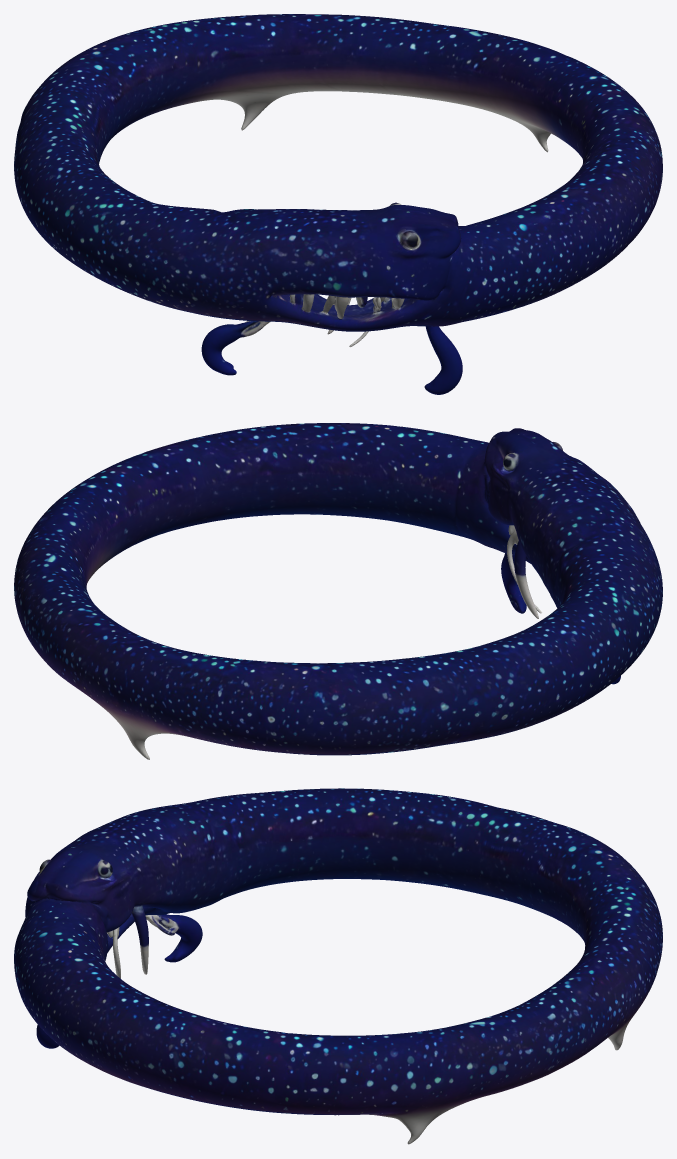
Rendered from hag_b.glb.
The picture shows the model from 3 angles, top to bottom: view 1: azimuth 30°, elevation 25°; view 2: azimuth 150°, elevation 25°; view 3: azimuth 270°, elevation 25°; orthographic projection.
Visible parts, largest first — view 1: tripo_node_276e7a13-2af5-4d03-a9c7-d3756986046f; view 2: tripo_node_276e7a13-2af5-4d03-a9c7-d3756986046f; view 3: tripo_node_276e7a13-2af5-4d03-a9c7-d3756986046f.
Part boxes in pixels (x1,y1,x2,y2): tripo_node_276e7a13-2af5-4d03-a9c7-d3756986046f: (14, 14, 662, 394); tripo_node_276e7a13-2af5-4d03-a9c7-d3756986046f: (14, 423, 662, 759); tripo_node_276e7a13-2af5-4d03-a9c7-d3756986046f: (14, 788, 662, 1144).
Size of the model in its own units: 1 by 0.3109 by 0.9995.
Materials: 1 (1 with a texture image).
